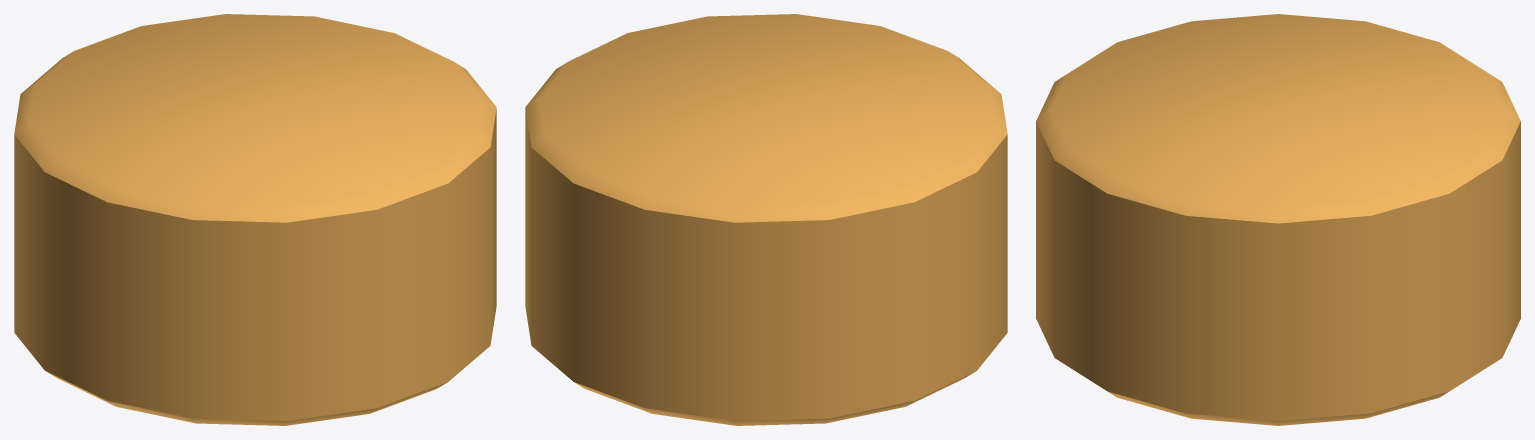
The picture shows the model from 3 angles, left to right: view 1: azimuth 30°, elevation 25°; view 2: azimuth 150°, elevation 25°; view 3: azimuth 270°, elevation 25°; orthographic projection.
Visible parts, largest first — view 1: Cylinder_04; view 2: Cylinder_04; view 3: Cylinder_04.
Part boxes in pixels (x1,y1,x2,y2): Cylinder_04: (14, 14, 496, 425); Cylinder_04: (525, 14, 1007, 425); Cylinder_04: (1036, 14, 1520, 425).
Size of the model in its own units: 320 by 160 by 320.
